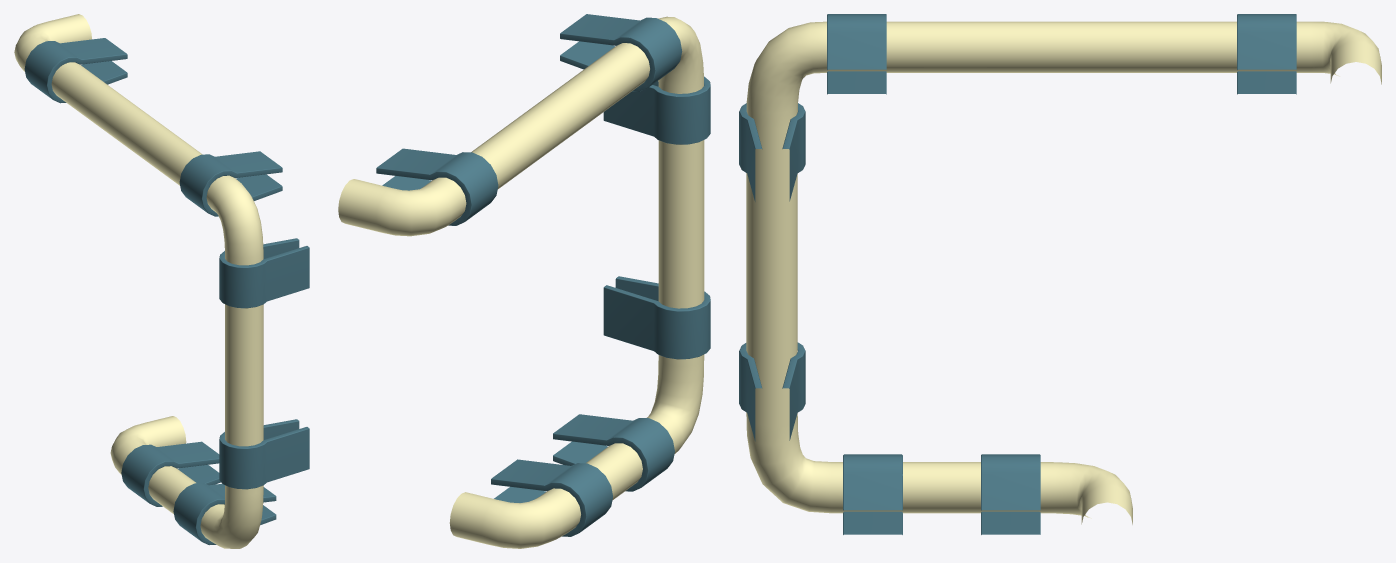
File: City_3_Pipe_4.glb
3 renders of one model, left to right at view 1: azimuth 30°, elevation 25°; view 2: azimuth 150°, elevation 25°; view 3: azimuth 270°, elevation 25°, orthographic. The views are drawn at different scales.
Visible parts, largest first — view 1: City_3_Pipe_4; view 2: City_3_Pipe_4; view 3: City_3_Pipe_4.
Part boxes in pixels (x1,y1,x2,y2): City_3_Pipe_4: (14,14,309,548); City_3_Pipe_4: (338,14,710,548); City_3_Pipe_4: (739,14,1381,534).
Size of the model in its own units: 0.7141 by 3.2 by 3.72.
Materials: 1 (1 with a texture image).
